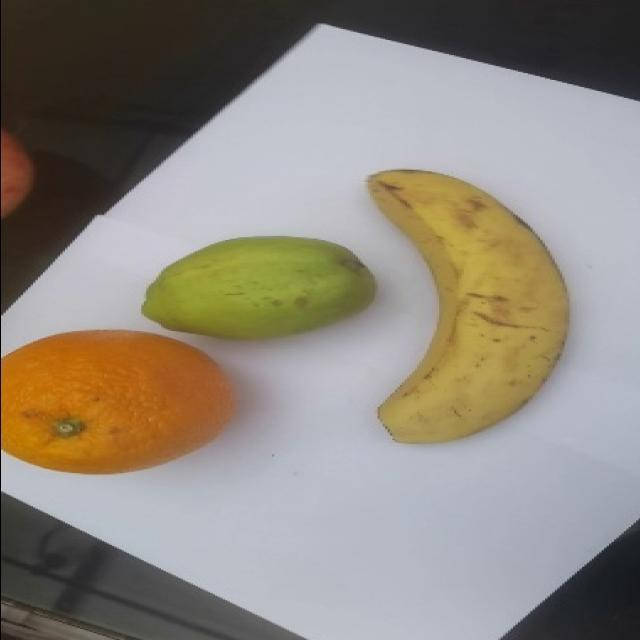Banana: (365, 167, 570, 444)
Orange: (0, 328, 234, 474)
